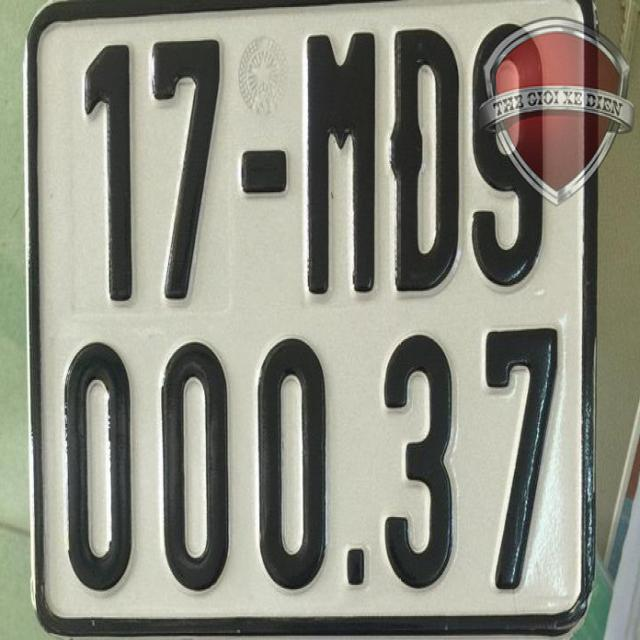0: (251, 329, 333, 595), (156, 334, 234, 596), (60, 334, 137, 596)
1: (79, 35, 144, 305)
3: (376, 325, 460, 592)
7: (480, 316, 562, 594), (148, 27, 225, 304)
9: (467, 19, 544, 290)
D: (386, 24, 461, 298)
M: (300, 11, 378, 303)
